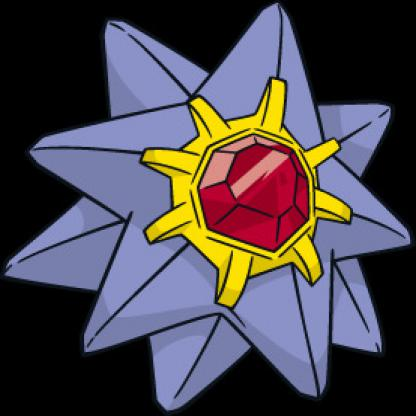Starmie: (12, 2, 399, 408)
